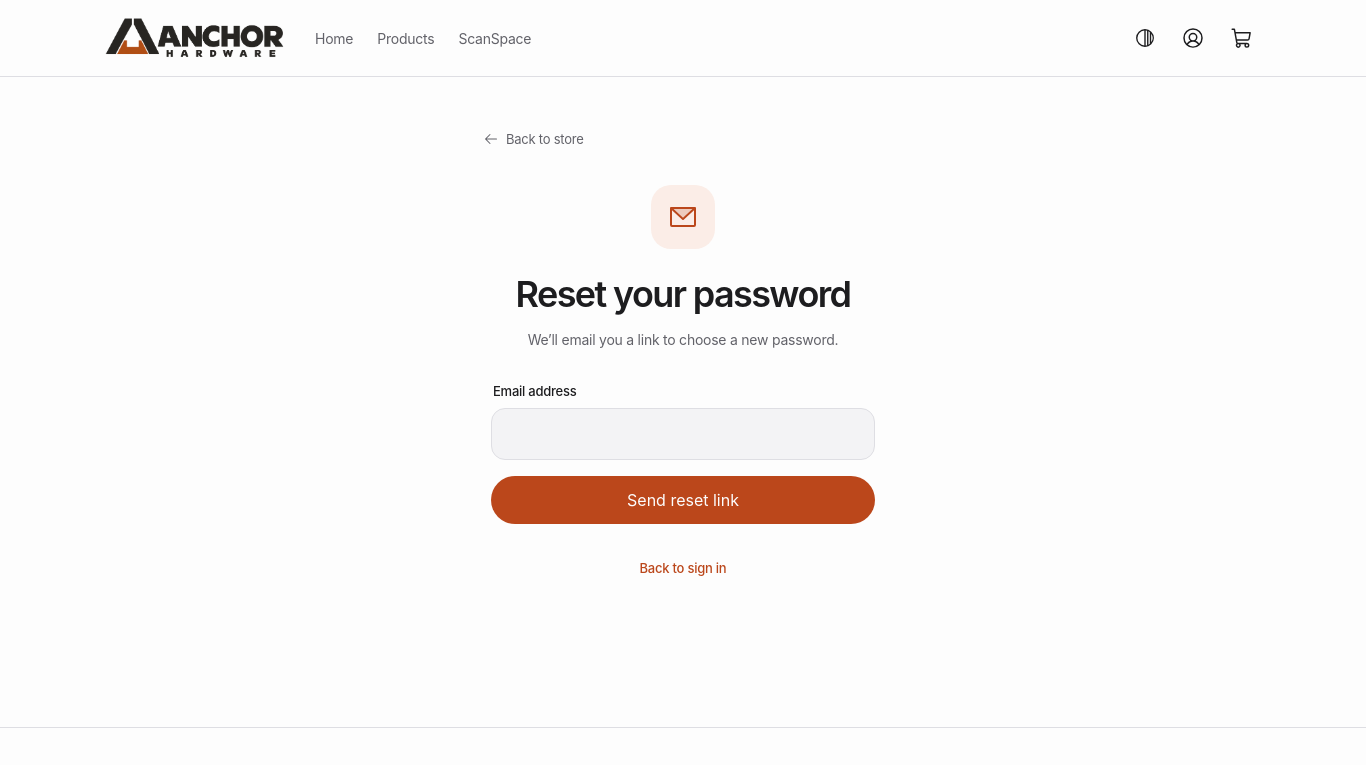
Test case: reset confirmation does not expose whether an email is registered
This screenshot has width=1366, height=765.
Type "unknown@example.com" into the field labelled "Email address". click: (683, 434)
box: [491, 408, 875, 460]
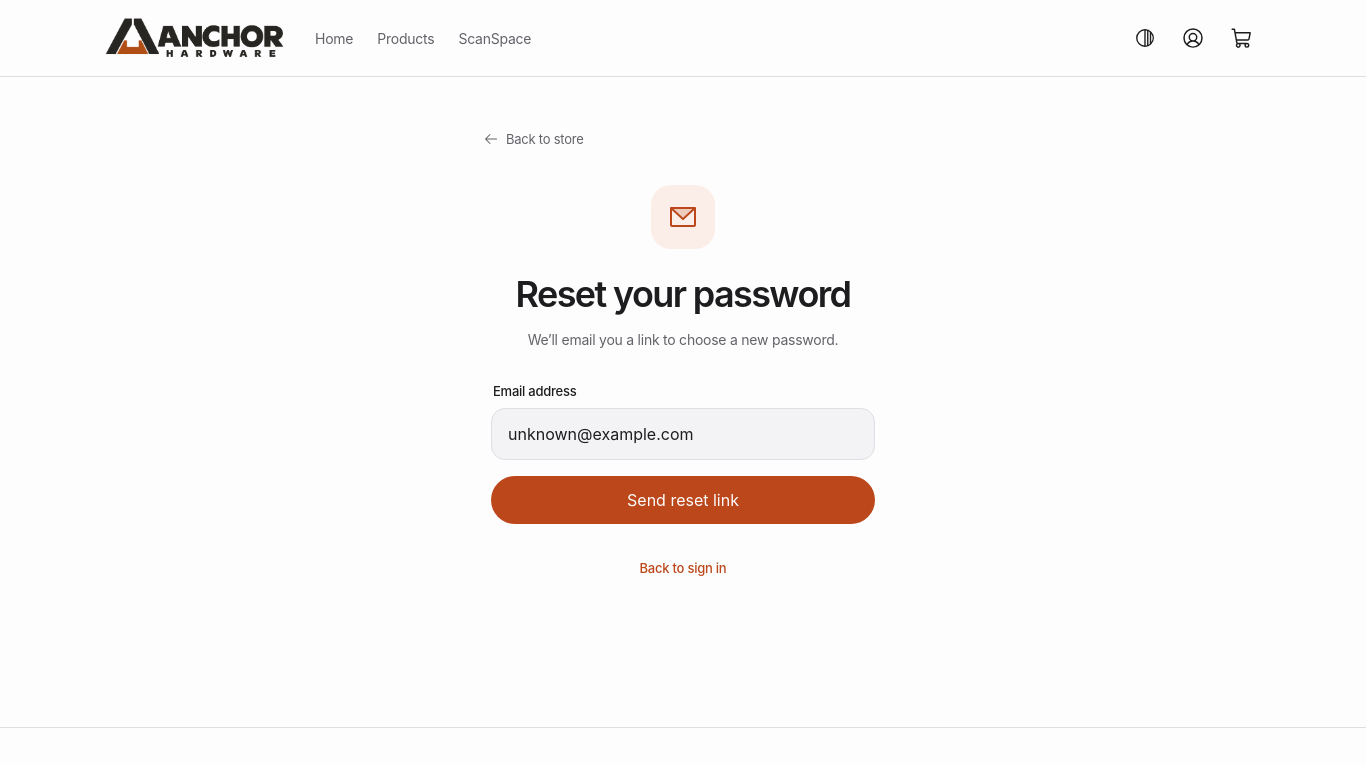
Click the button "Send reset link". click: (683, 500)
box: [491, 476, 875, 524]
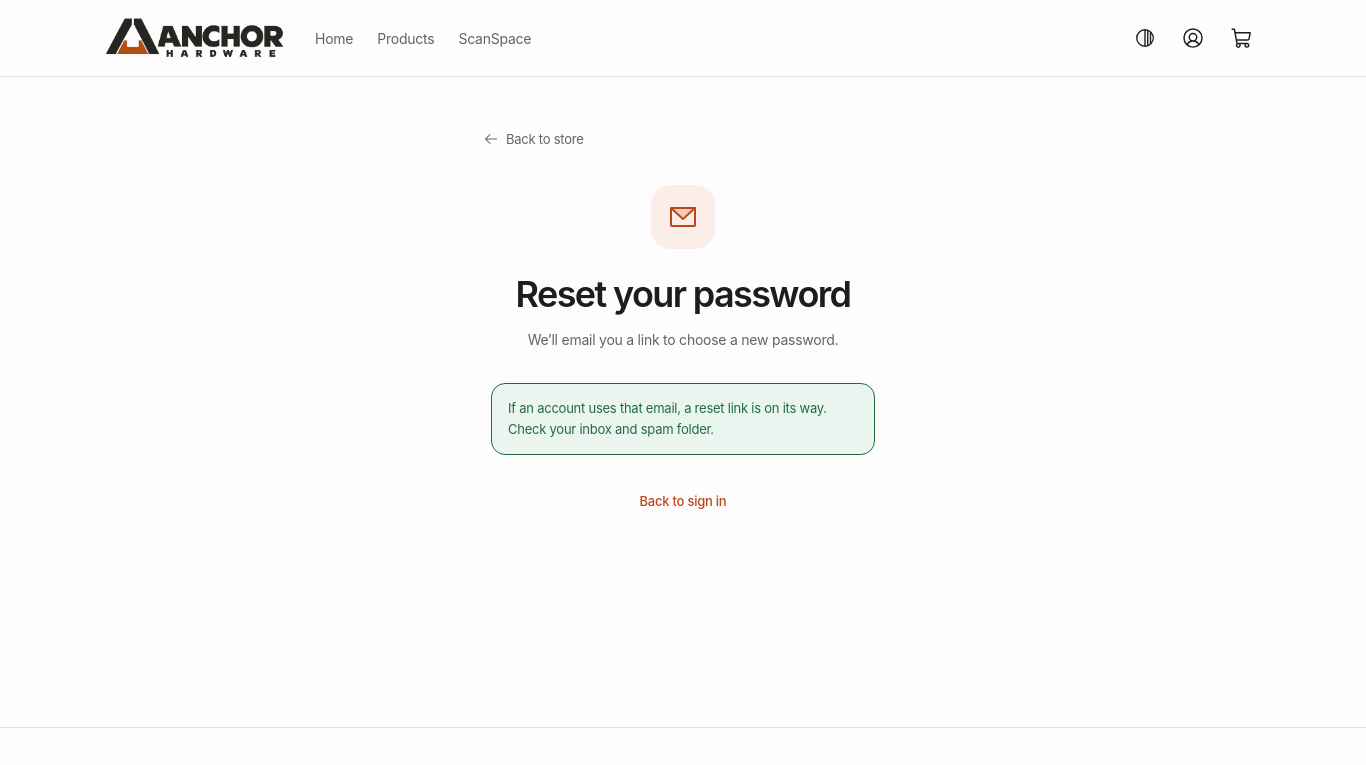
Result: the message shows "If an account uses that email" at [508, 400, 827, 437]
